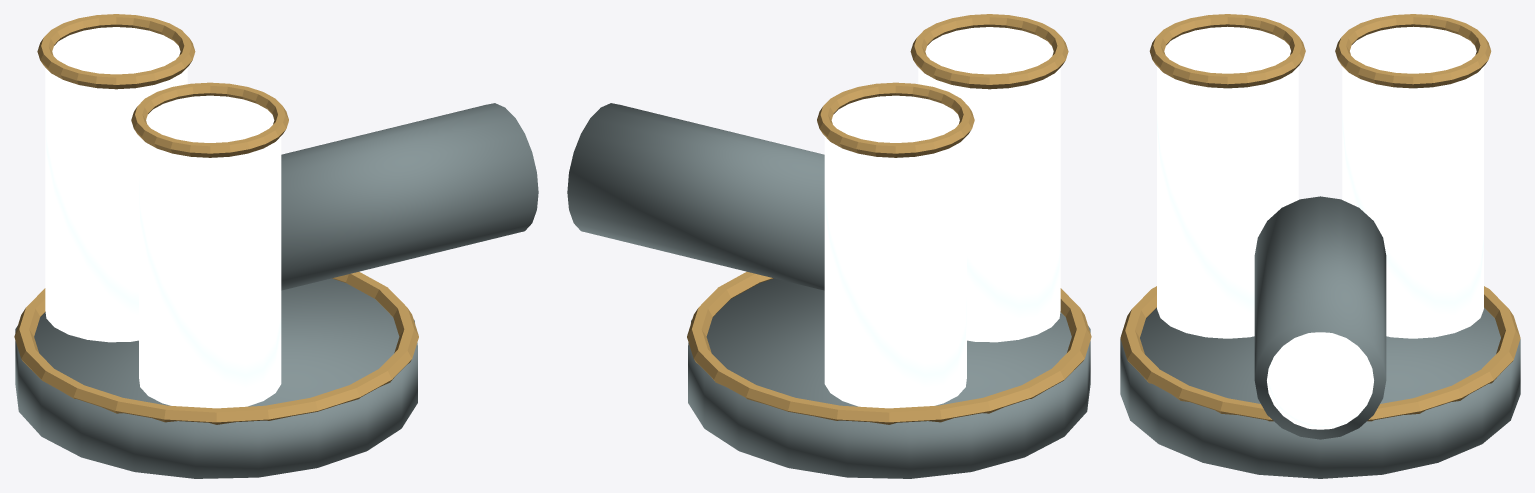
The model's file is module-cryo.glb.
3 views of the same model, side by side, from view 1: azimuth 30°, elevation 25°; view 2: azimuth 150°, elevation 25°; view 3: azimuth 270°, elevation 25° (orthographic).
Parts seen in each view (by area): view 1: module-cryo / Iron | weathered steel, module-cryo / Relic | mother of pearl, module-cryo / Brass | machined champagne; view 2: module-cryo / Iron | weathered steel, module-cryo / Relic | mother of pearl, module-cryo / Brass | machined champagne; view 3: module-cryo / Relic | mother of pearl, module-cryo / Iron | weathered steel, module-cryo / Brass | machined champagne.
Boxes of the visible parts, x1,y1,x2,y2 form: module-cryo / Iron | weathered steel: (15, 103, 538, 478); module-cryo / Relic | mother of pearl: (45, 27, 533, 408); module-cryo / Brass | machined champagne: (14, 14, 418, 424); module-cryo / Iron | weathered steel: (567, 103, 1090, 478); module-cryo / Relic | mother of pearl: (572, 27, 1060, 408); module-cryo / Brass | machined champagne: (687, 14, 1091, 424); module-cryo / Relic | mother of pearl: (1157, 26, 1483, 429); module-cryo / Iron | weathered steel: (1120, 196, 1520, 478); module-cryo / Brass | machined champagne: (1120, 14, 1520, 421).
Size of the model in its own units: 2.24 by 1.46 by 1.64.
